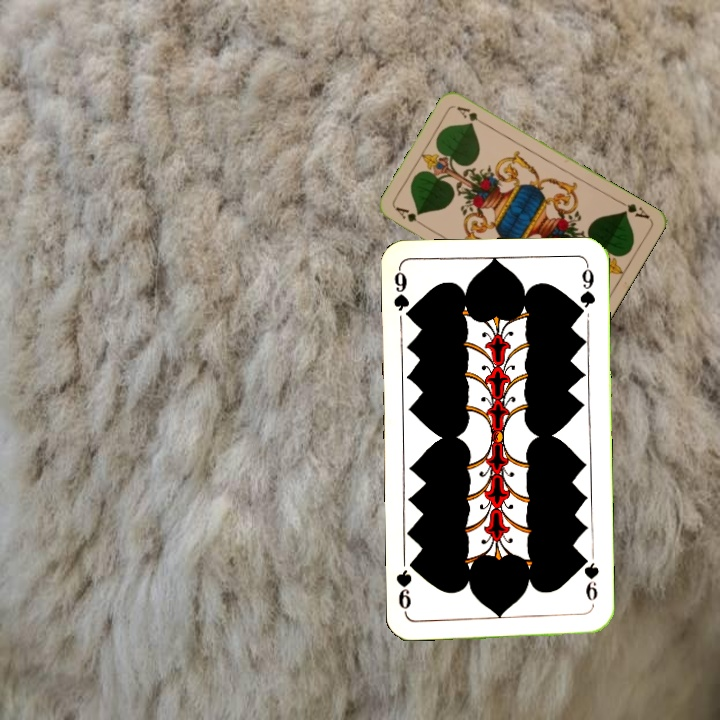G9: (389, 265, 416, 324), (578, 552, 602, 603)
GA: (391, 203, 428, 230), (615, 196, 652, 222)
